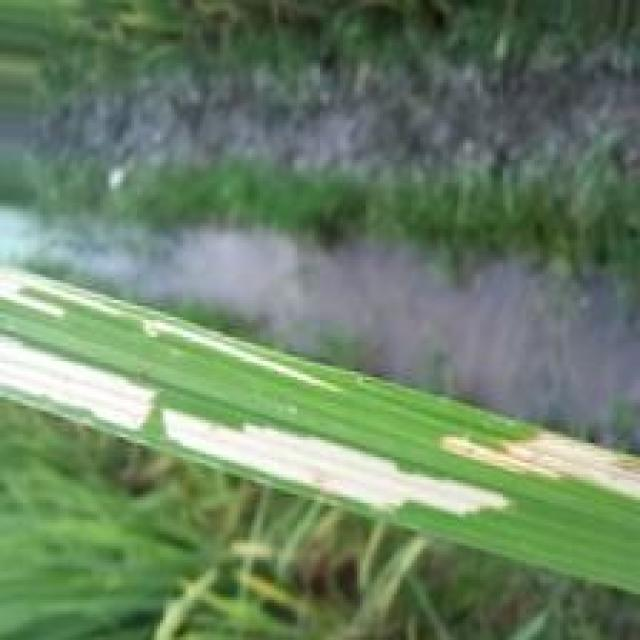Rice_Hispa: (0, 263, 325, 393), (157, 405, 504, 526), (0, 328, 166, 434), (438, 427, 640, 503)
